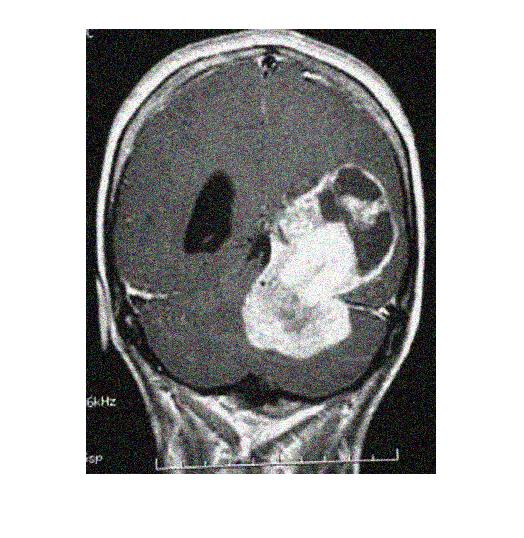Brain_Cancer: (284, 163, 396, 303)
